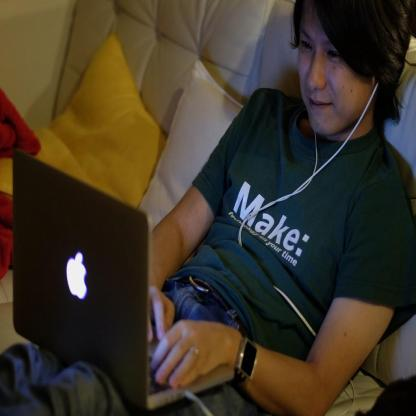board: (15, 147, 235, 416)
